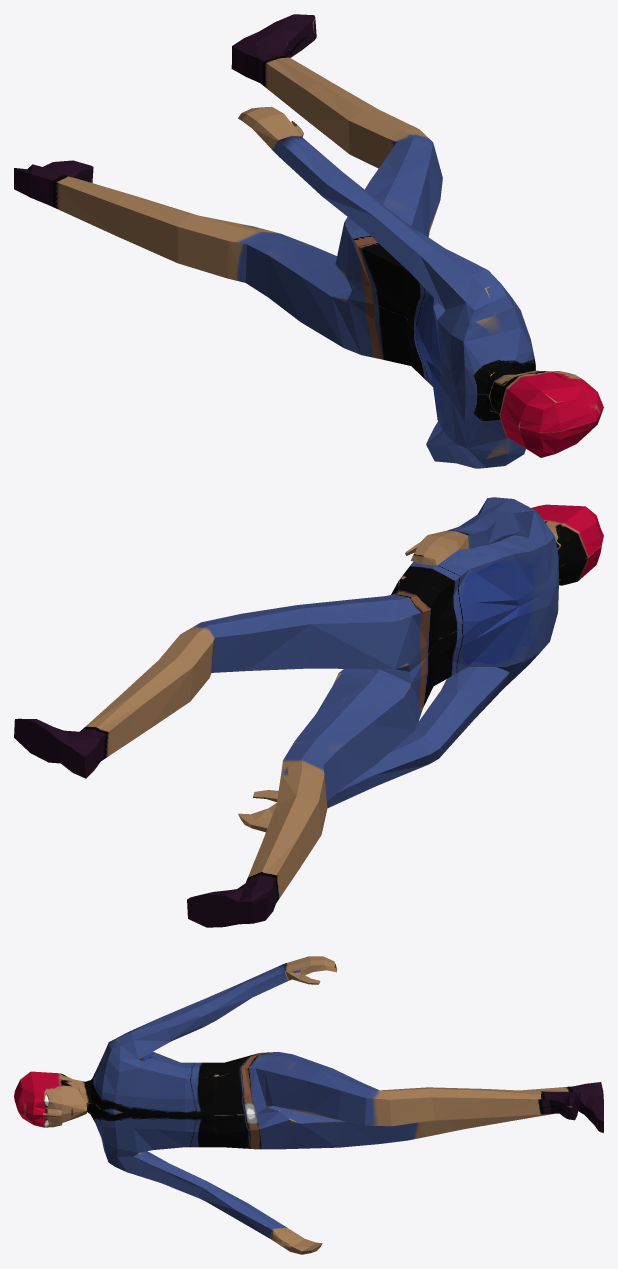
File: mirrorman_000037.obj
3 renders of one model, top to bottom at view 1: azimuth 30°, elevation 25°; view 2: azimuth 150°, elevation 25°; view 3: azimuth 270°, elevation 25°, orthographic. The views are drawn at different scales.
Parts seen in each view (by area): view 1: mirrorman_Cube.001_Material.001; view 2: mirrorman_Cube.001_Material.001; view 3: mirrorman_Cube.001_Material.001.
Part boxes in pixels (x1,y1,x2,y2): mirrorman_Cube.001_Material.001: (14,14,603,468); mirrorman_Cube.001_Material.001: (14,497,603,927); mirrorman_Cube.001_Material.001: (14,956,603,1254).
Size of the model in its own units: 0.6845 by 0.8061 by 1.86.
